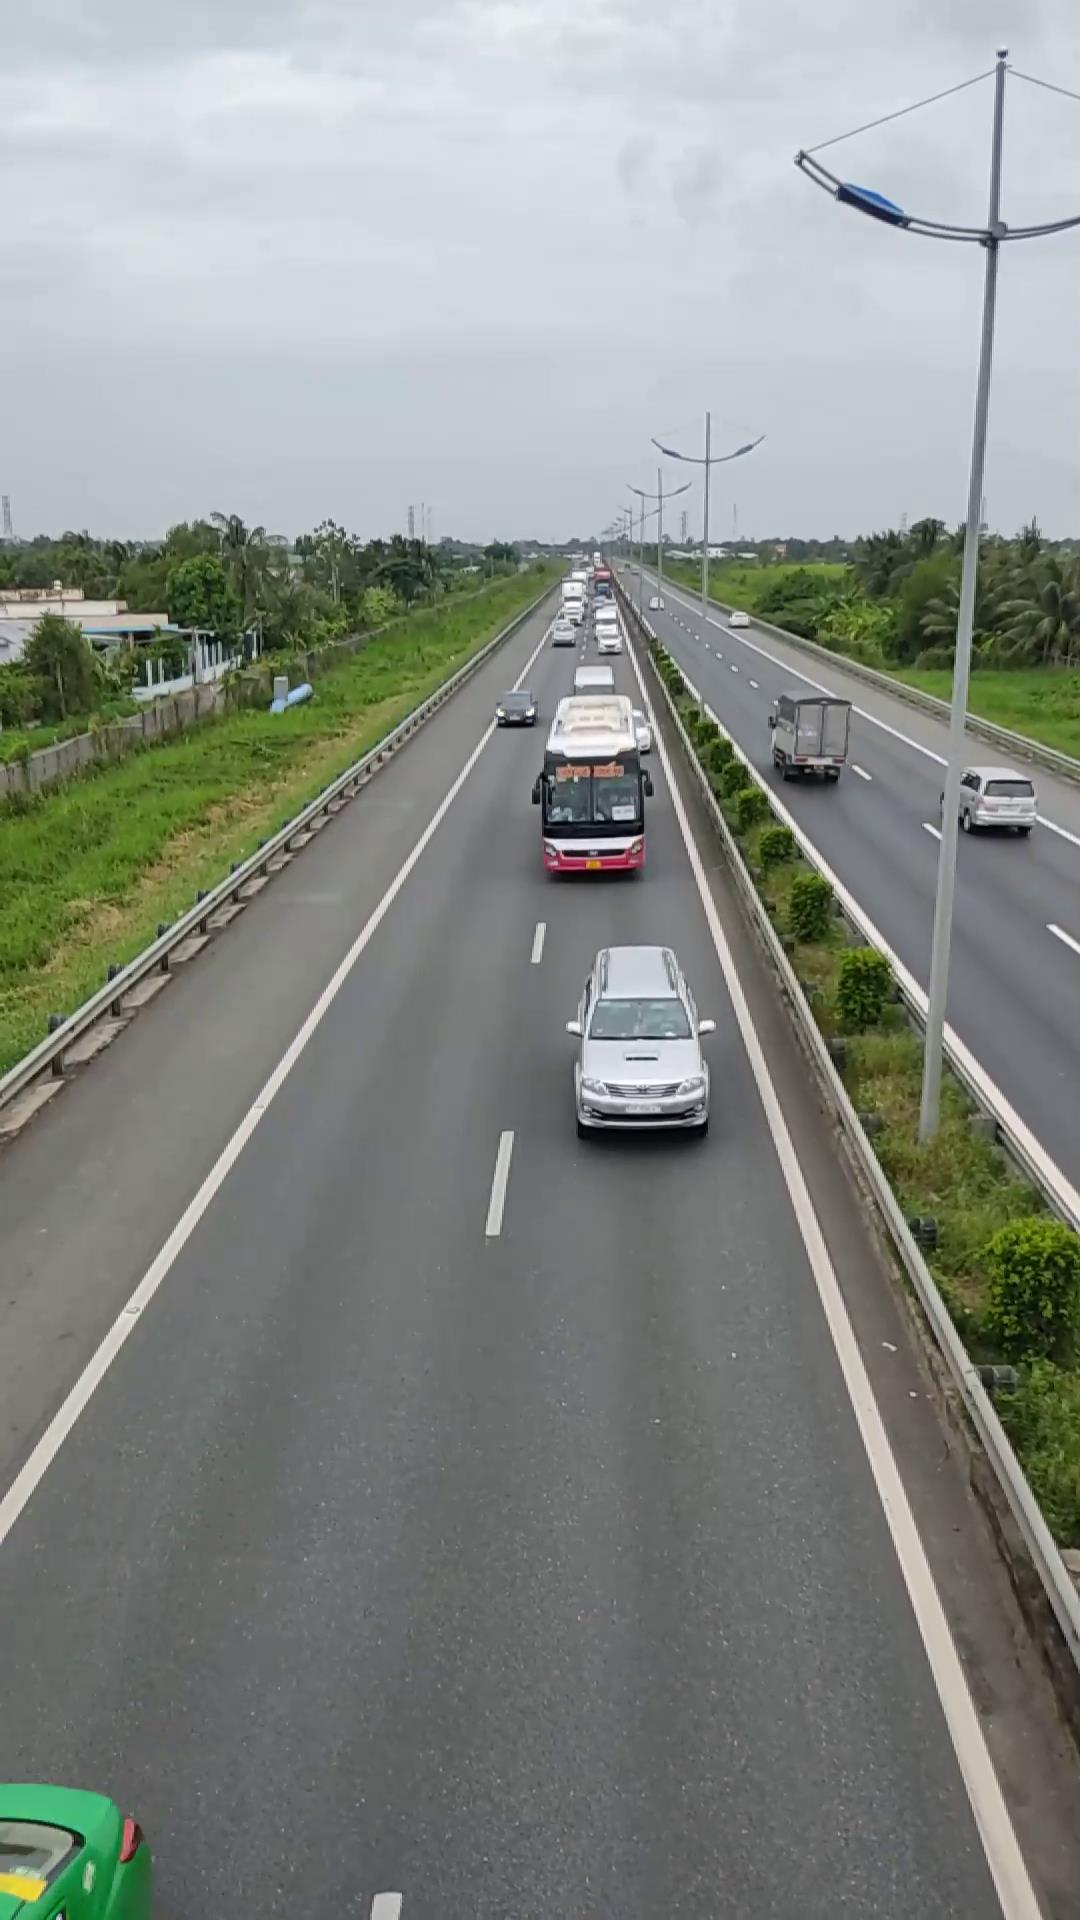bus: (530, 695, 648, 881)
car: (565, 942, 712, 1136), (943, 762, 1037, 835)
truck: (768, 686, 852, 782)
